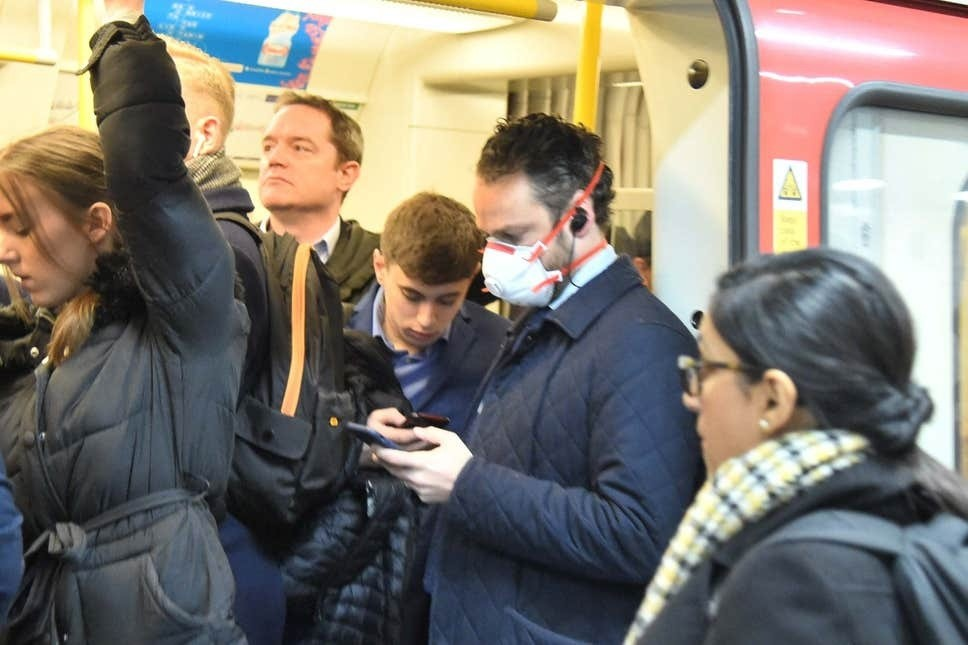face_no_mask: (1, 150, 126, 315), (128, 30, 237, 183), (250, 96, 366, 227), (365, 238, 480, 356)
face_with_mask: (461, 184, 585, 325)
